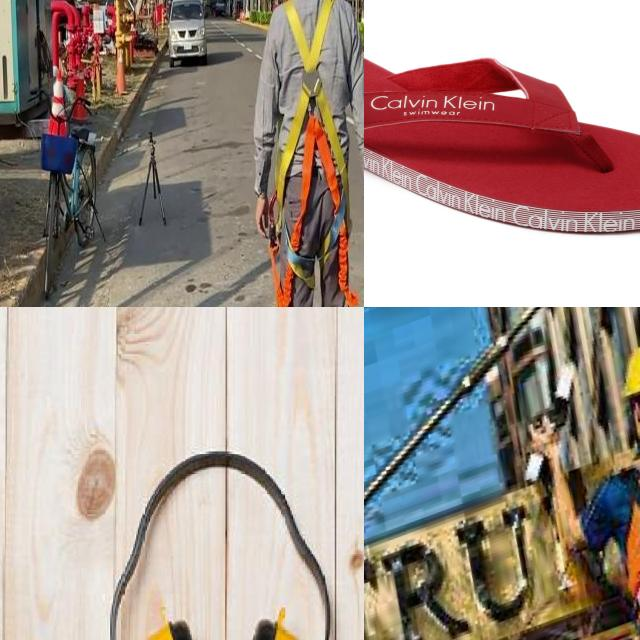Ear-protection: (108, 462, 342, 640)
Harness: (270, 64, 358, 307), (285, 0, 335, 70)
Sandals: (364, 34, 640, 236)
